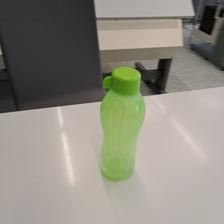bottle: (97, 66, 148, 179)
